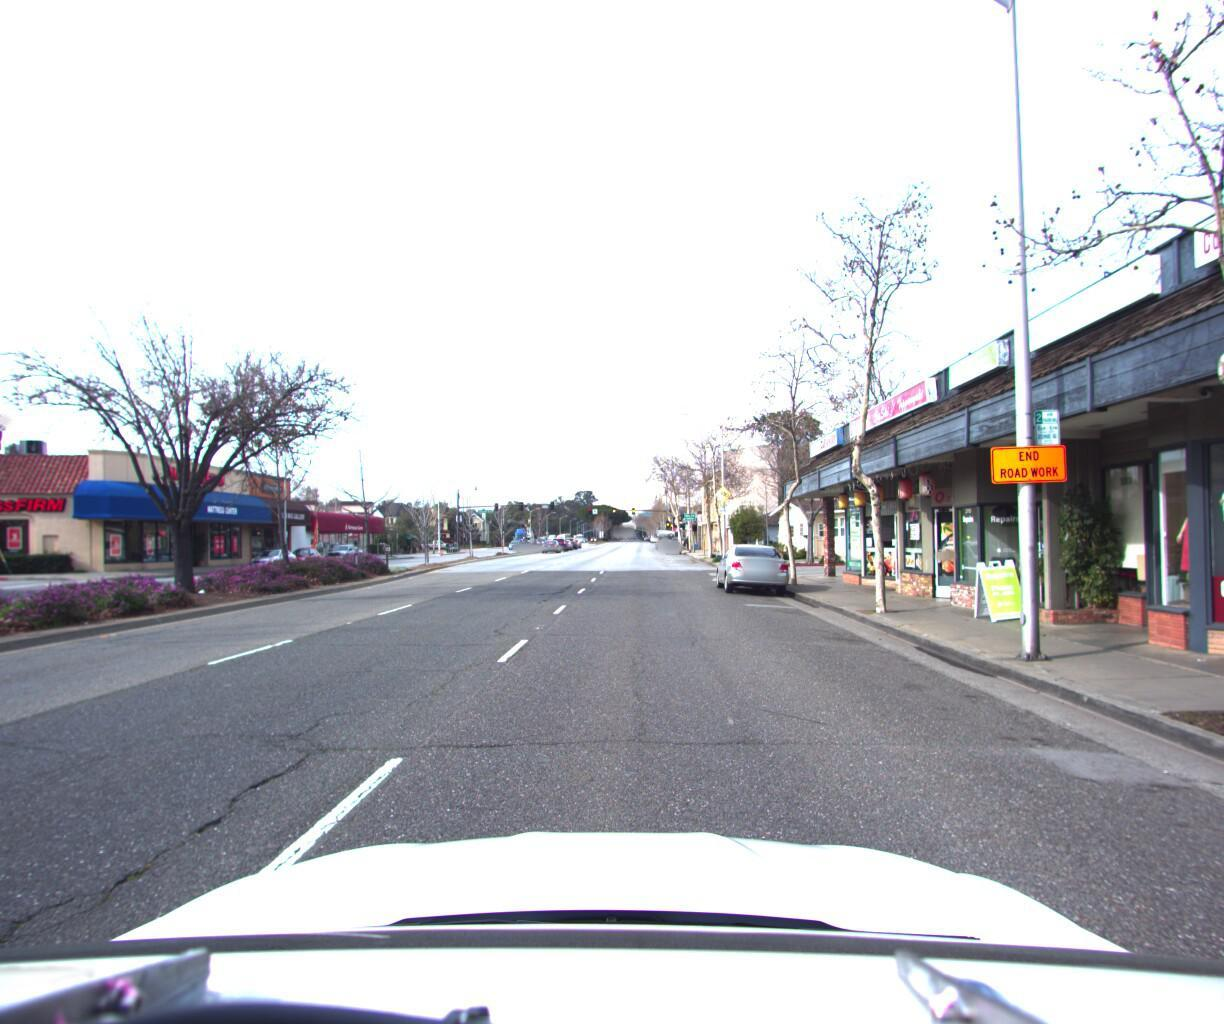car: (710, 538, 794, 593), (663, 533, 686, 549)
